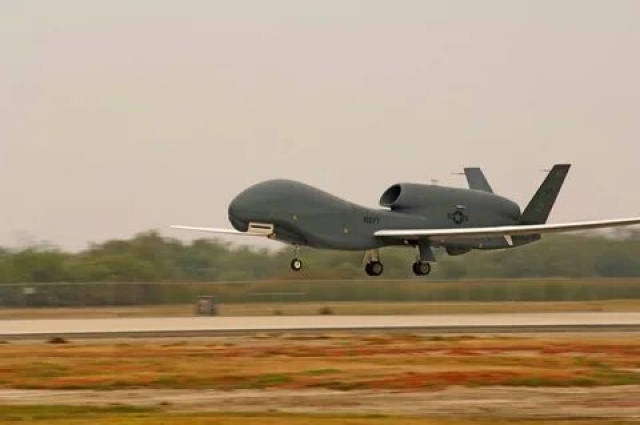military drone: (168, 163, 640, 277)
